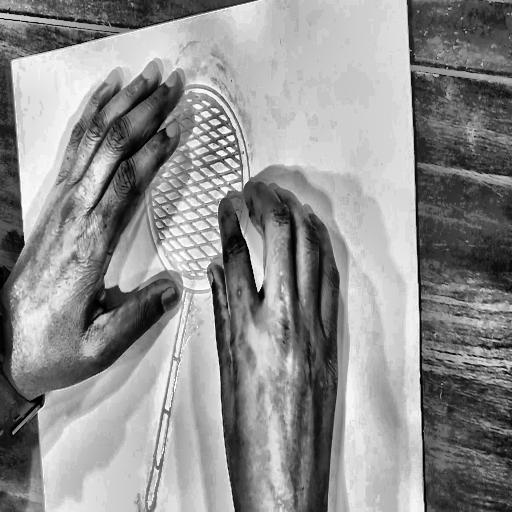badminton: (107, 50, 342, 512)
top_left: (9, 56, 16, 68)
